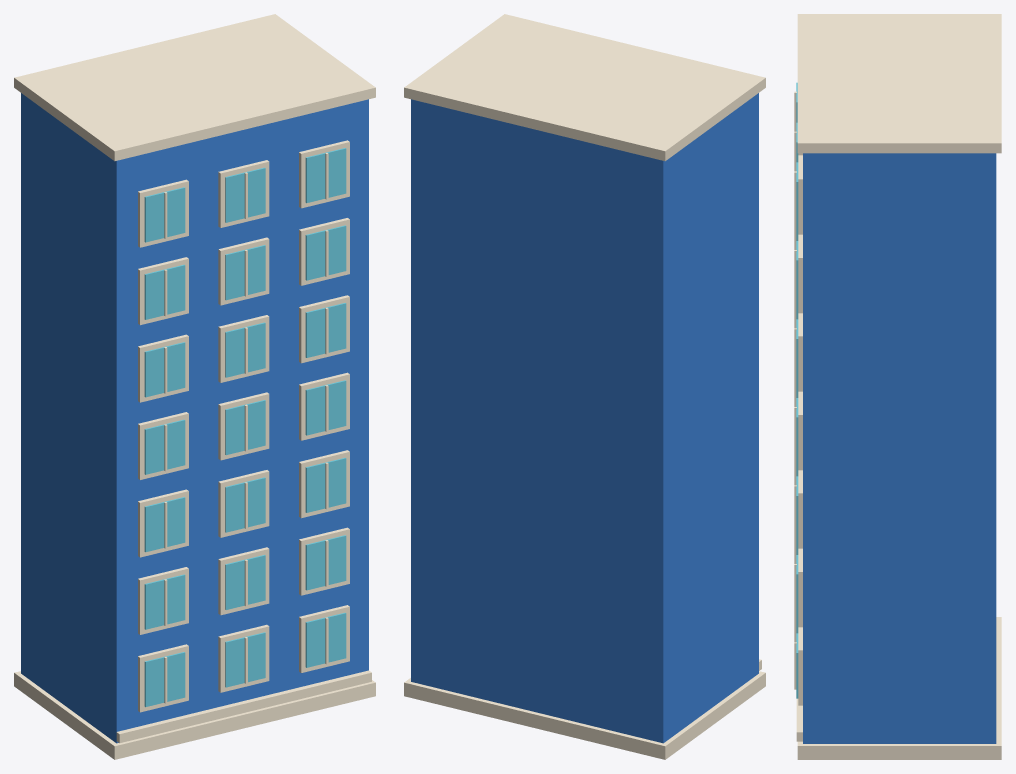
The model's file is 10_skyline_a.obj.
3 renders of one model, left to right at view 1: azimuth 30°, elevation 25°; view 2: azimuth 150°, elevation 25°; view 3: azimuth 270°, elevation 25°, orthographic.
Parts seen in each view (by area): view 1: part_1, part_2, part_0, part_3, part_14, part_38, part_56, part_29, part_50, part_59, part_11, part_20 (+34 smaller); view 2: part_1, part_2, part_0; view 3: part_1, part_2, part_0, part_19, part_37, part_55, part_64, part_10, part_28, part_46.
Boxes of the visible parts, x1,y1,x2,y2 form: part_1: (21,93,368,743); part_2: (14,14,375,161); part_0: (14,671,375,759); part_3: (116,670,371,743); part_14: (144,574,185,629); part_38: (305,380,346,435); part_56: (305,225,346,280); part_29: (305,457,346,512); part_50: (144,264,185,319); part_59: (144,187,185,242); part_11: (305,612,346,667); part_20: (305,535,346,590); part_1: (411,93,758,743); part_2: (404,14,765,161); part_0: (404,671,765,759); part_1: (803,153,996,743); part_2: (797,14,1001,153); part_0: (797,617,1001,759); part_19: (798,548,802,627); part_37: (798,391,802,470); part_55: (798,234,802,313); part_64: (798,155,802,234); part_10: (798,627,802,705); part_28: (798,470,802,548); part_46: (798,313,802,391).
Size of the model in its own units: 6 by 13.36 by 4.07.
